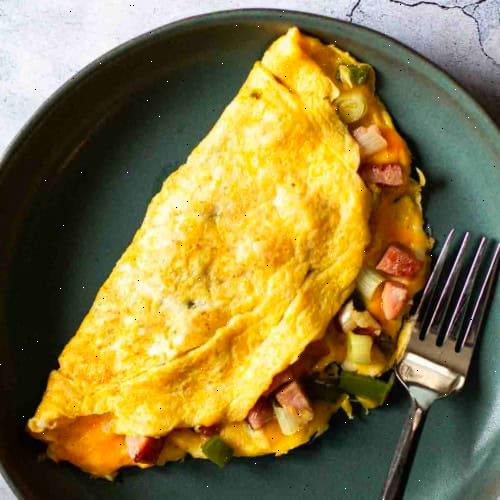omelette: (64, 48, 423, 463)
